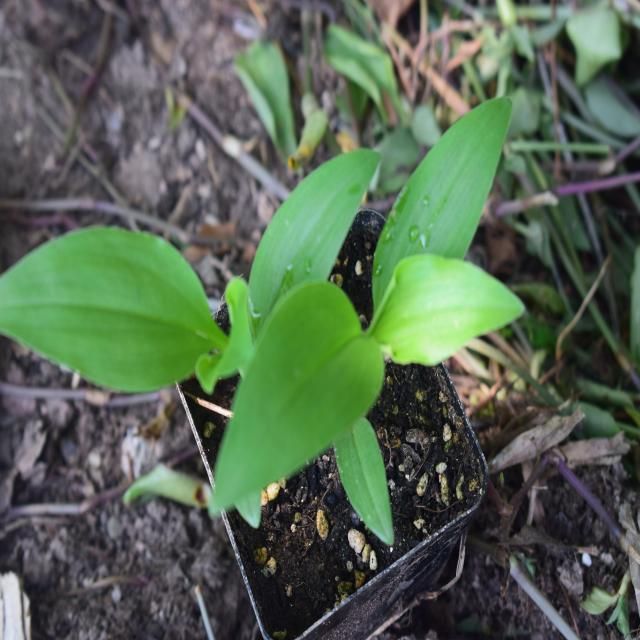Common Dayflower: (208, 86, 522, 513), (0, 201, 208, 398)
